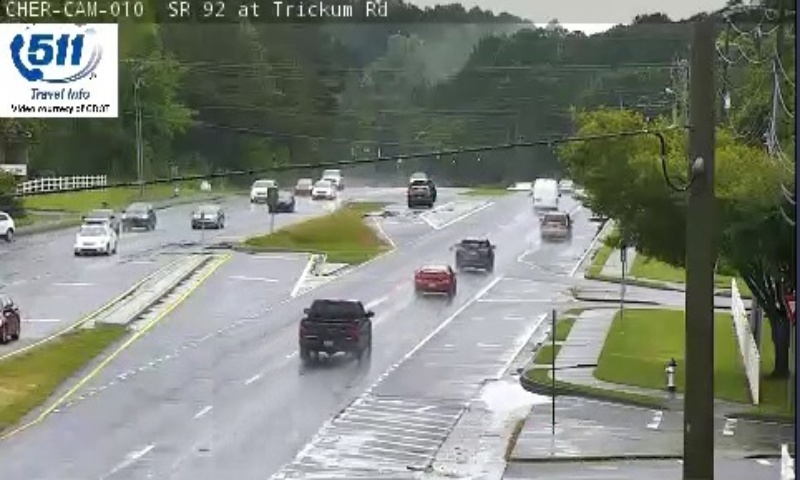car: (299, 301, 372, 355), (454, 238, 492, 272), (414, 267, 456, 294), (541, 211, 570, 240)
van: (533, 180, 559, 214)
